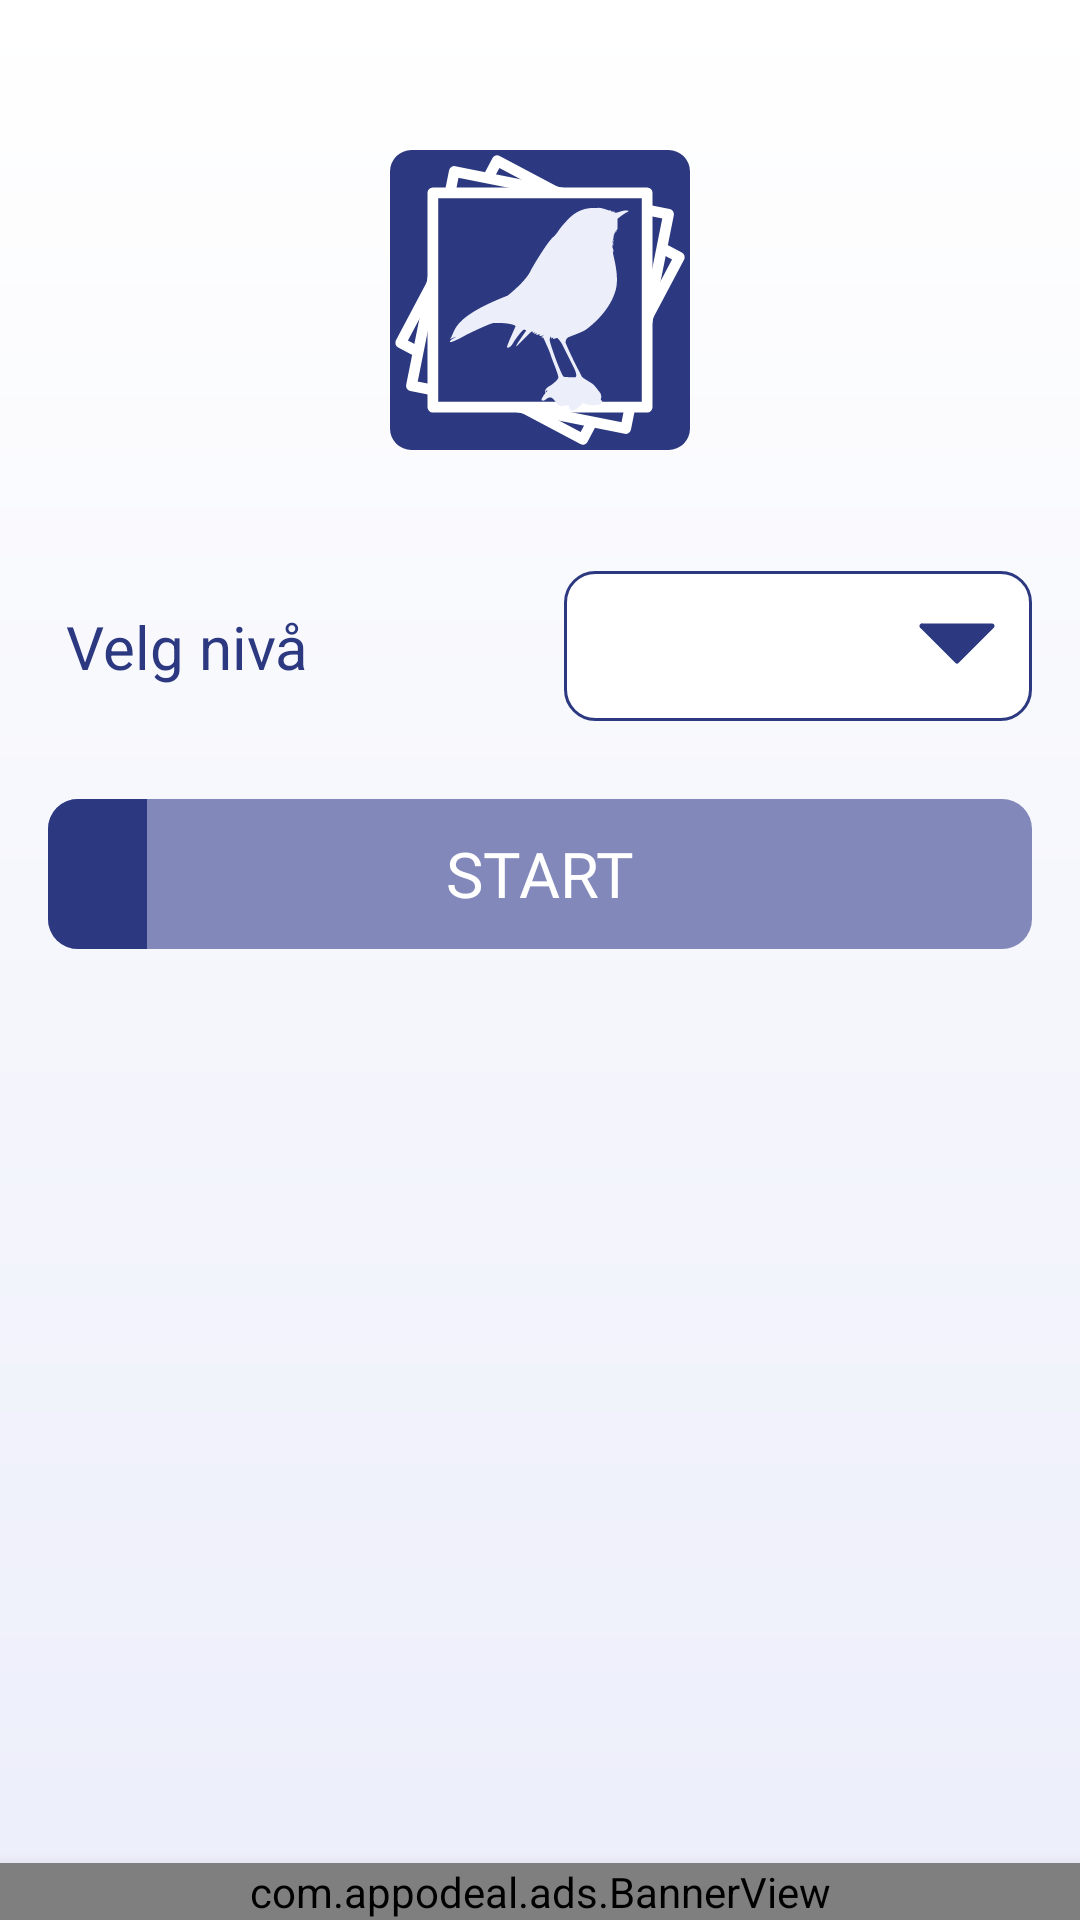

Point at icon controls on the screen. Image size 1080*1920, points as point (x, y).
Fugler: point (540, 300)
